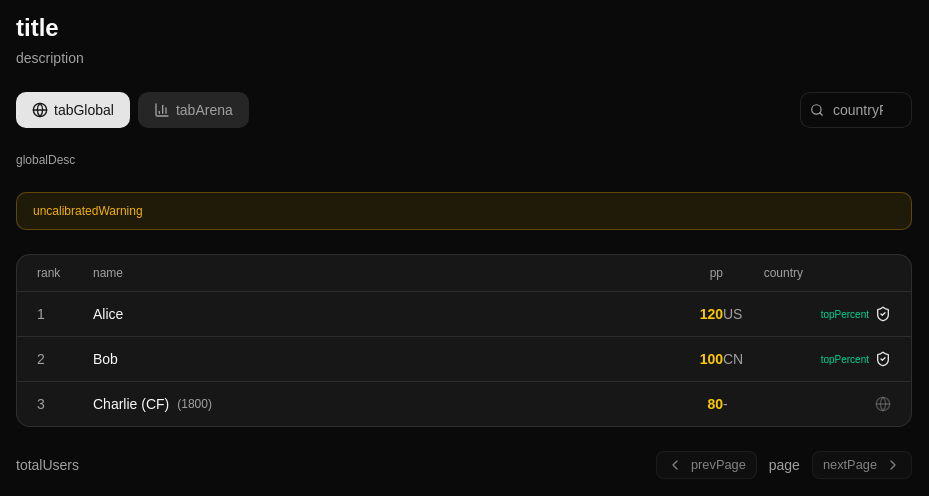
it: GlobalRankingPage › switches to arena tab and shows arena data
Expected: the text "Alice" is shown, 93,304 -> 123,324
Step 1. Click the button "tabArena" → (193, 110), box 138,92 -> 249,128
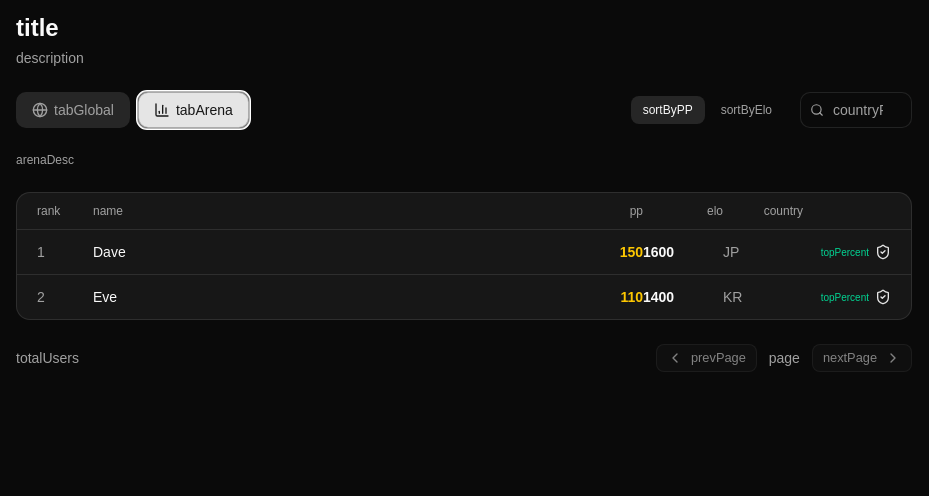
Result: the text "Dave" is shown at 93,242 -> 126,262
Result: the text "Eve" is shown at 93,287 -> 117,307
